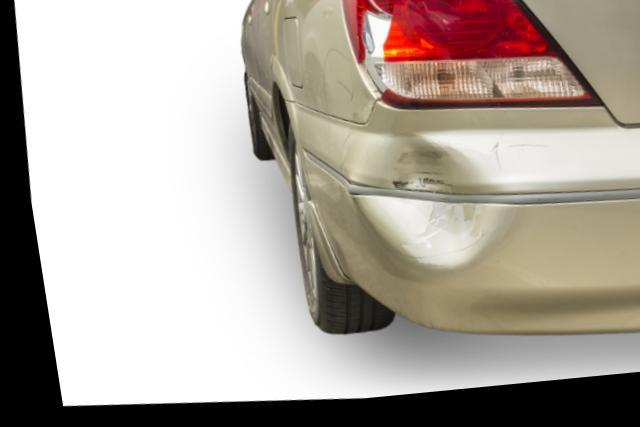dent: (346, 142, 498, 276)
lamp broken: (344, 0, 597, 118)
